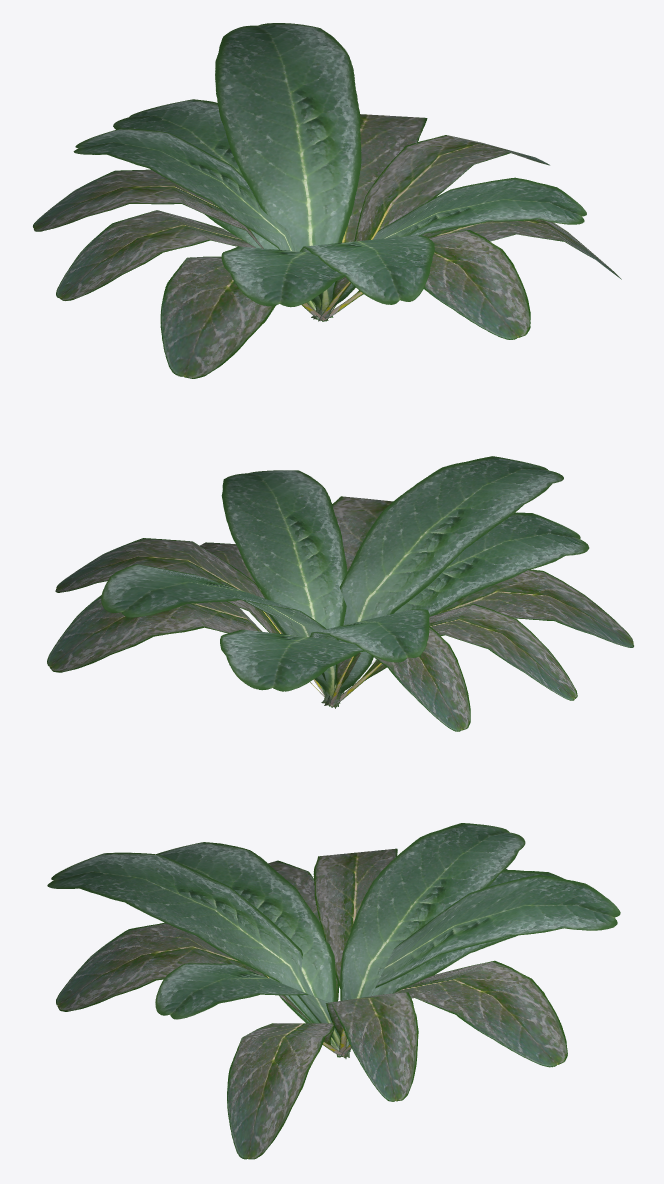
Rendered from FOLIAGE_leafPlant_DF_GEO.fbx.
The picture shows the model from 3 angles, top to bottom: view 1: azimuth 30°, elevation 25°; view 2: azimuth 150°, elevation 25°; view 3: azimuth 270°, elevation 25°; orthographic projection.
Visible parts, largest first — view 1: pPlane14; view 2: pPlane14; view 3: pPlane14.
Boxes of the visible parts, box(x1,y1,x2,y2) form: pPlane14: box(33, 23, 621, 378); pPlane14: box(47, 456, 633, 731); pPlane14: box(47, 823, 620, 1159).
Bounding box in the file's own units: 188 × 71.34 × 193.
